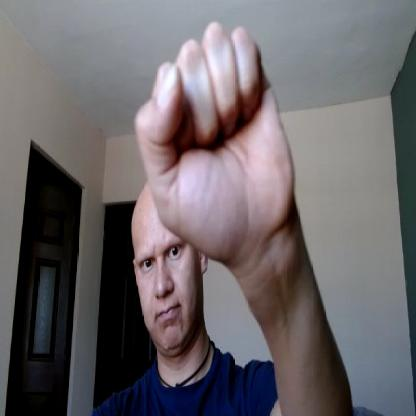S: (136, 17, 292, 261)
